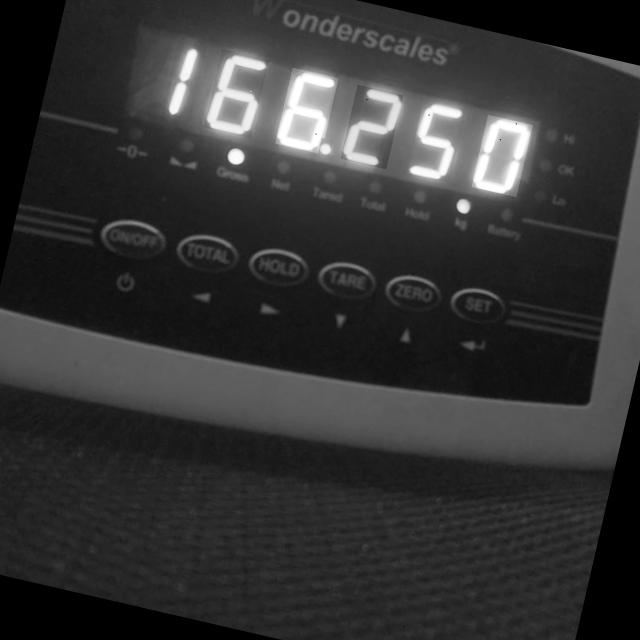.: (317, 138, 333, 158)
0: (471, 114, 532, 197)
1: (160, 41, 207, 120)
2: (340, 84, 403, 169)
5: (407, 99, 467, 182)
6: (204, 49, 268, 138), (275, 67, 338, 154)
